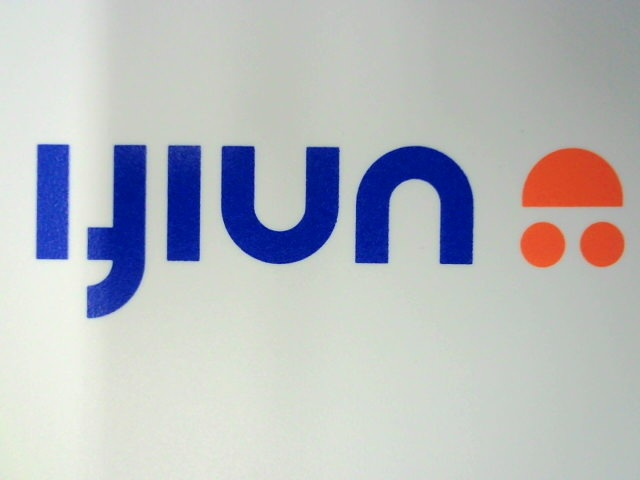BN_unifi: (14, 134, 629, 316)
